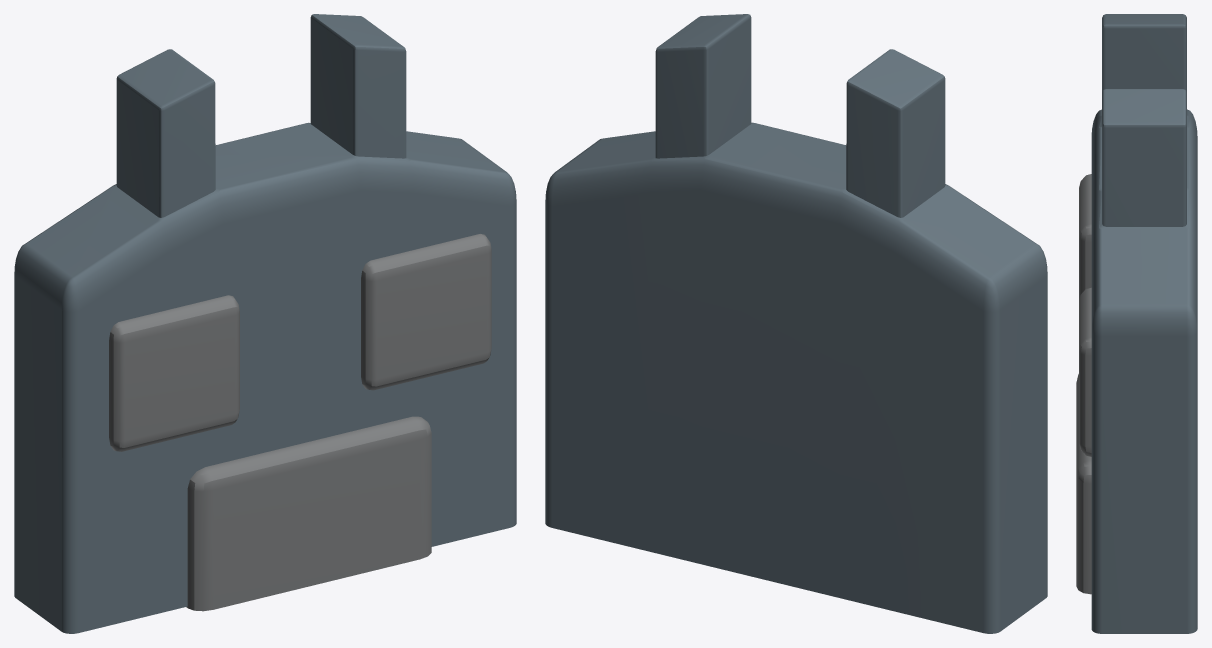
3 views of the same model, side by side, from view 1: azimuth 30°, elevation 25°; view 2: azimuth 150°, elevation 25°; view 3: azimuth 270°, elevation 25° (orthographic). The views are drawn at different scales.
Visible parts, largest first — view 1: pCube26; view 2: pCube26; view 3: pCube26.
Part boxes in pixels (left/top/right/bottom): pCube26: left=14, top=14, right=516, bottom=633; pCube26: left=545, top=14, right=1047, bottom=633; pCube26: left=1076, top=14, right=1197, bottom=633.
Bounding box in the file's own units: 45.6 × 49.43 × 11.42.
